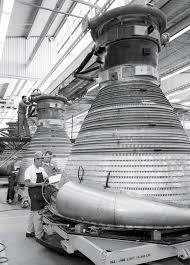thruster: (51, 81, 190, 230), (14, 126, 80, 186)
